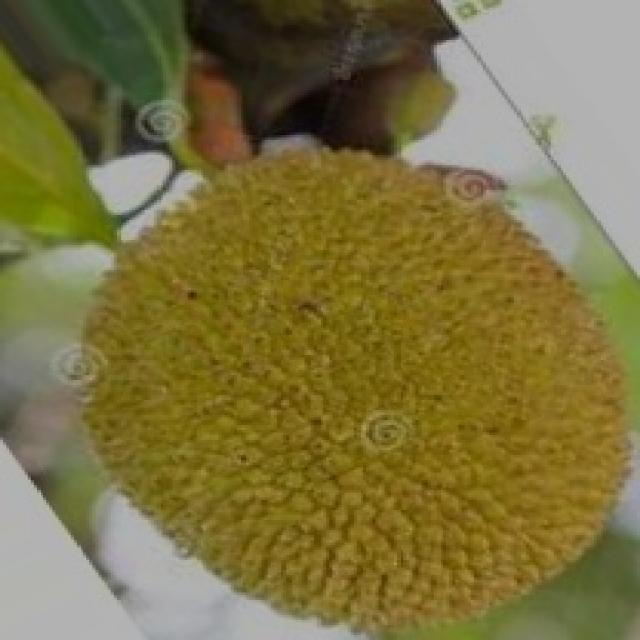Fruit: (268, 250, 637, 640)
